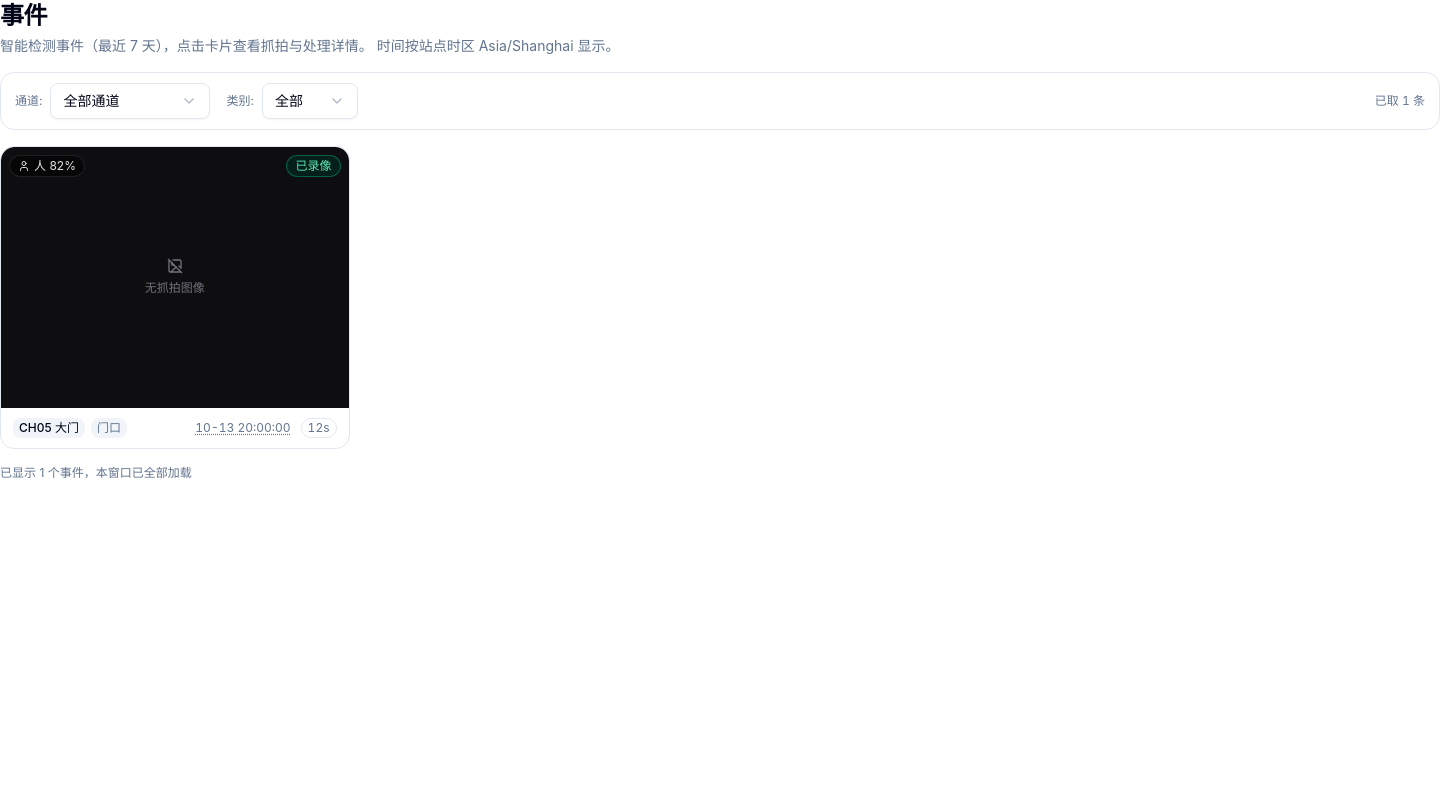
it: an event shows which rules it tripped and why
Click the button with test id "event-card".
click(175, 297)  # box [0,146,350,449]
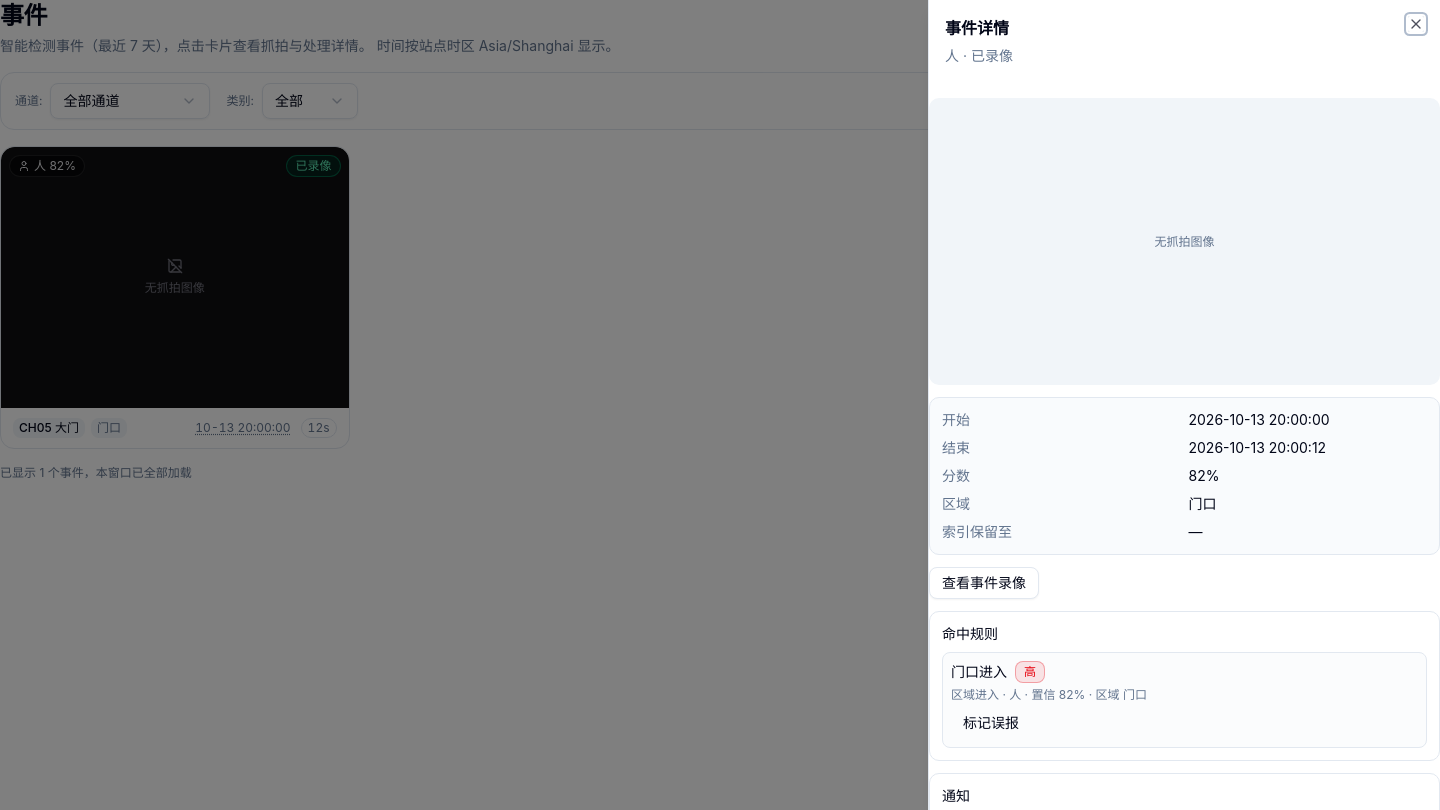
Check: the text "命中规则" is shown, box [942,625,998,642]
Check: the element with test id "event-hit" shows "门口进入", box [951,663,1007,680]
Check: the element with test id "event-hit" shows "区域进入", box [951,687,1147,702]
